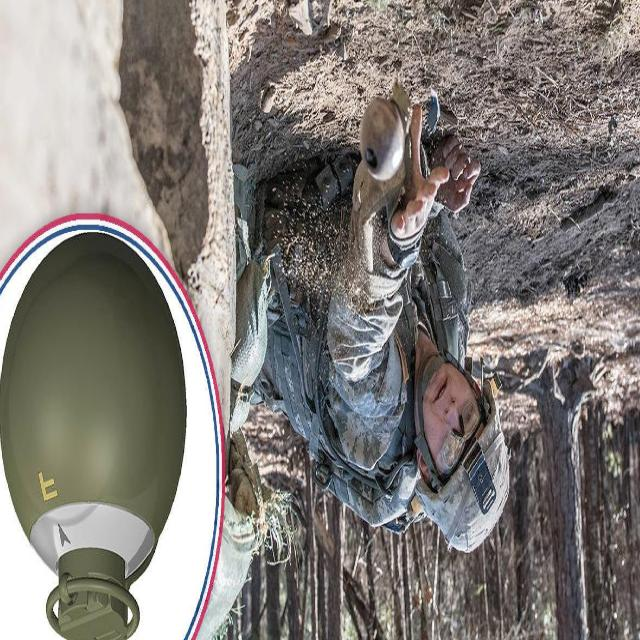grenade: (1, 232, 188, 640), (1, 235, 188, 640), (360, 80, 415, 183)
